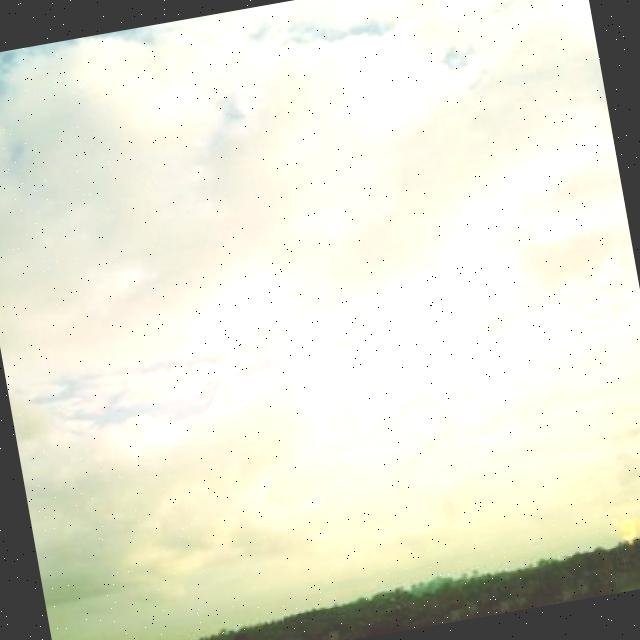Sc: (1, 1, 640, 509)
